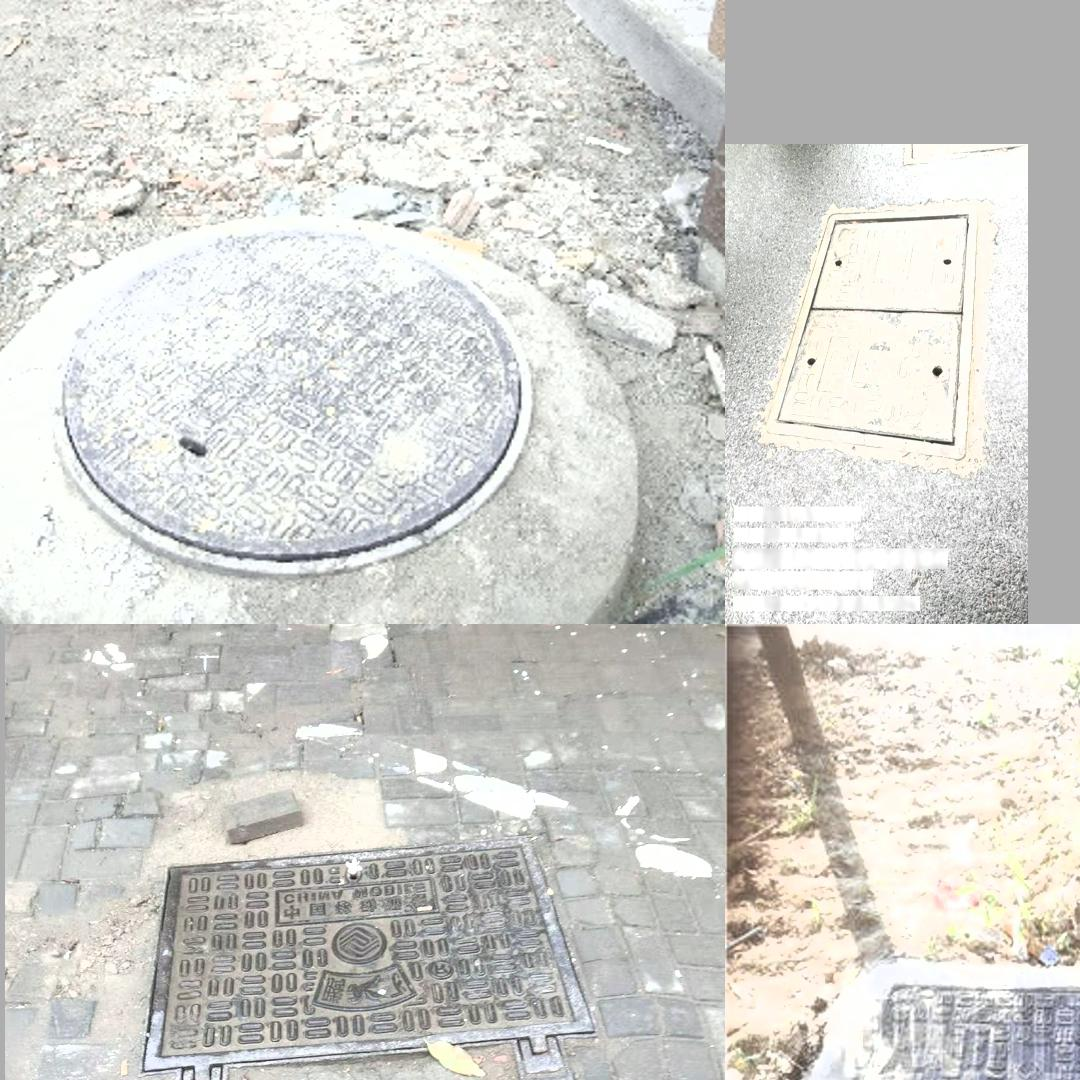good: (52, 229, 533, 573), (141, 834, 596, 1080), (766, 208, 976, 461), (837, 976, 1080, 1080)
